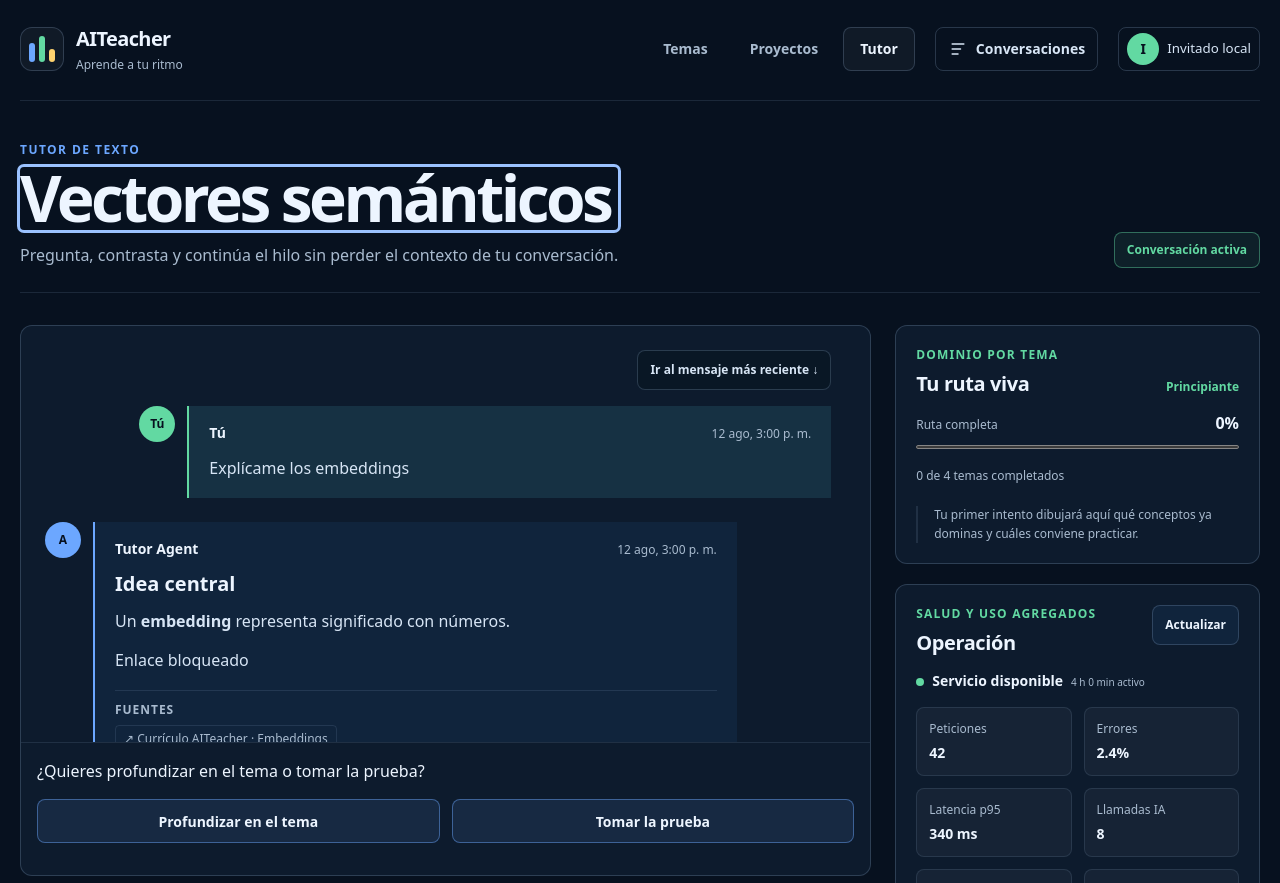
TutorScreen › ofrece explorar o tomar la prueba sin pedir una respuesta automáticamente
This screenshot has width=1280, height=883.
Click the button "Profundizar en el tema": (238,821) [37,799,440,843]
(page scrolled)
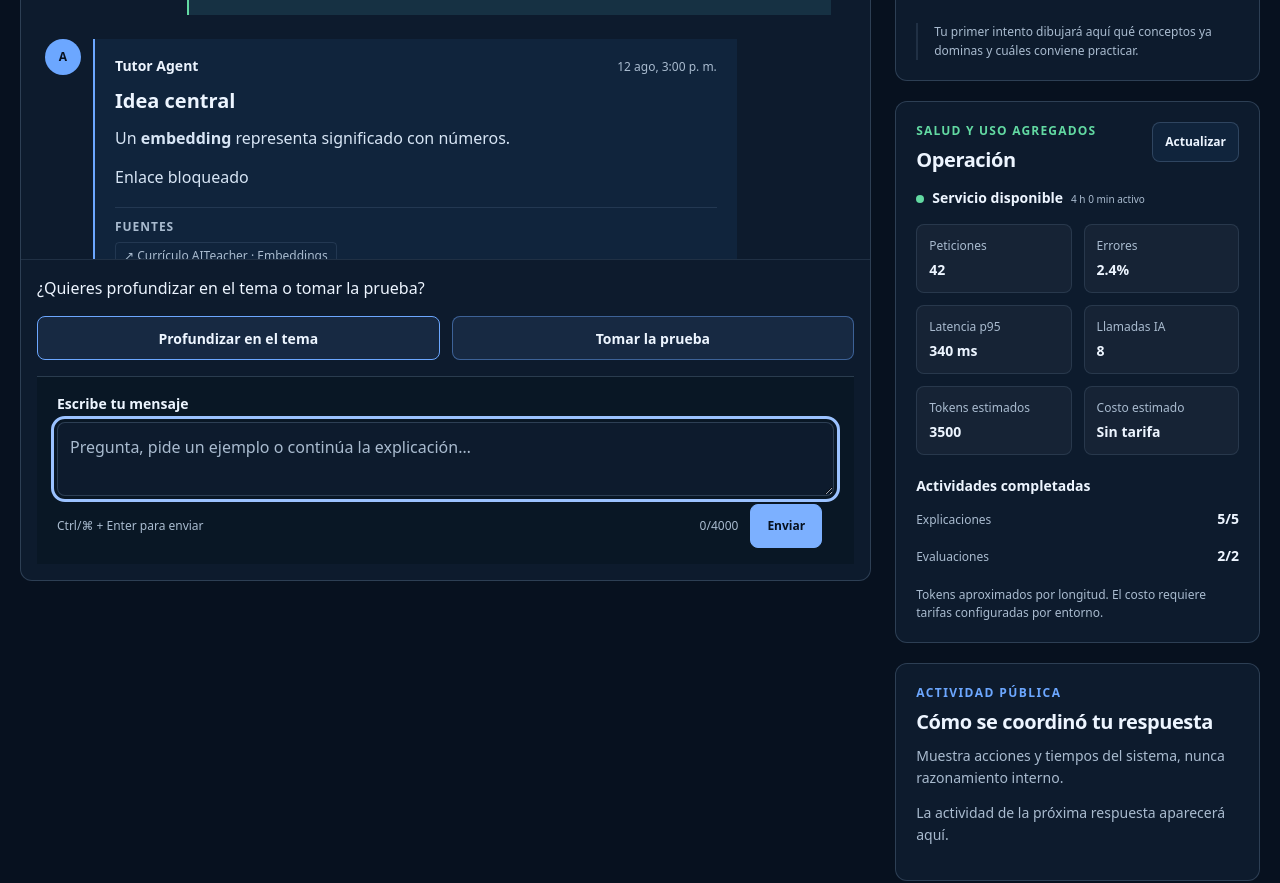
Expected: the field labelled "Explícalo con tus propias palabras" is not shown
Click the button "Tomar la prueba": (653,338) [452,316,854,360]
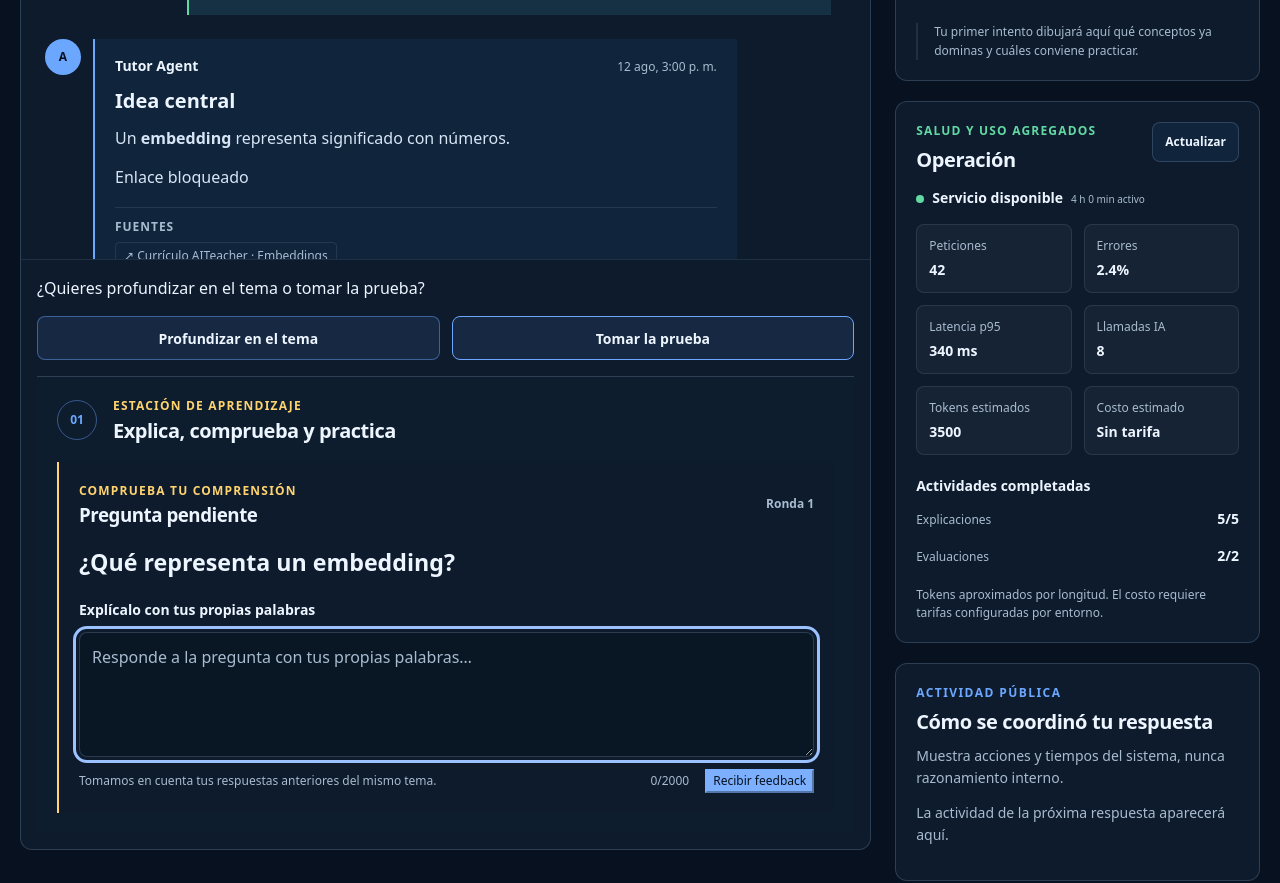
Expected: the label "Escribe tu mensaje" is gone
